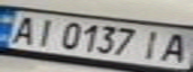0: (54, 19, 84, 51)
1: (78, 21, 100, 54)
3: (93, 22, 121, 56)
7: (112, 24, 142, 57)
A: (154, 30, 193, 64), (3, 12, 42, 45)
I: (136, 27, 172, 61), (27, 16, 60, 47)
